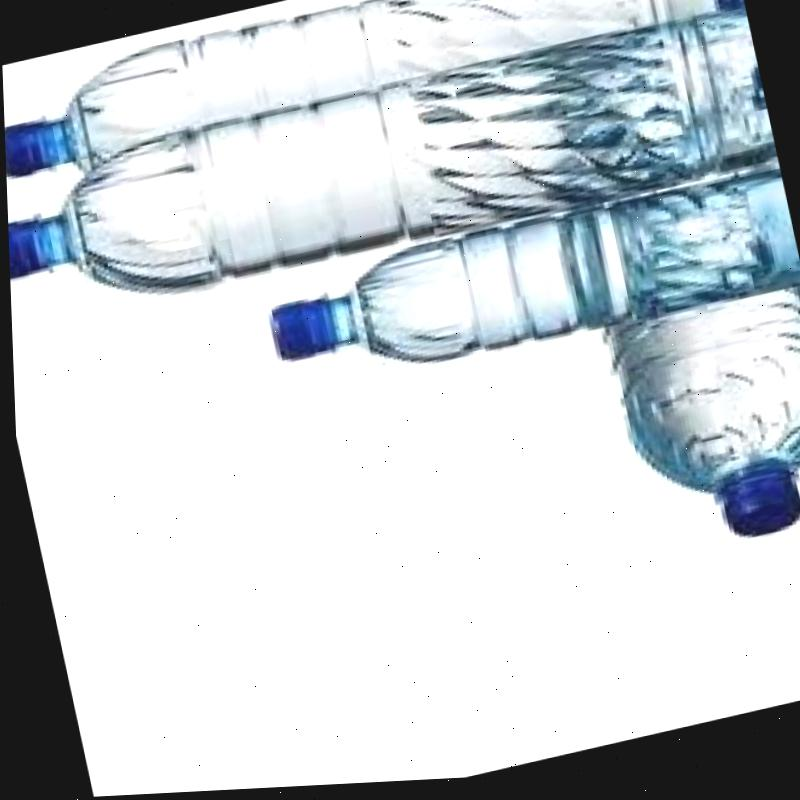botella: (1, 5, 781, 340), (0, 0, 752, 190), (255, 170, 800, 403), (595, 285, 800, 571)
